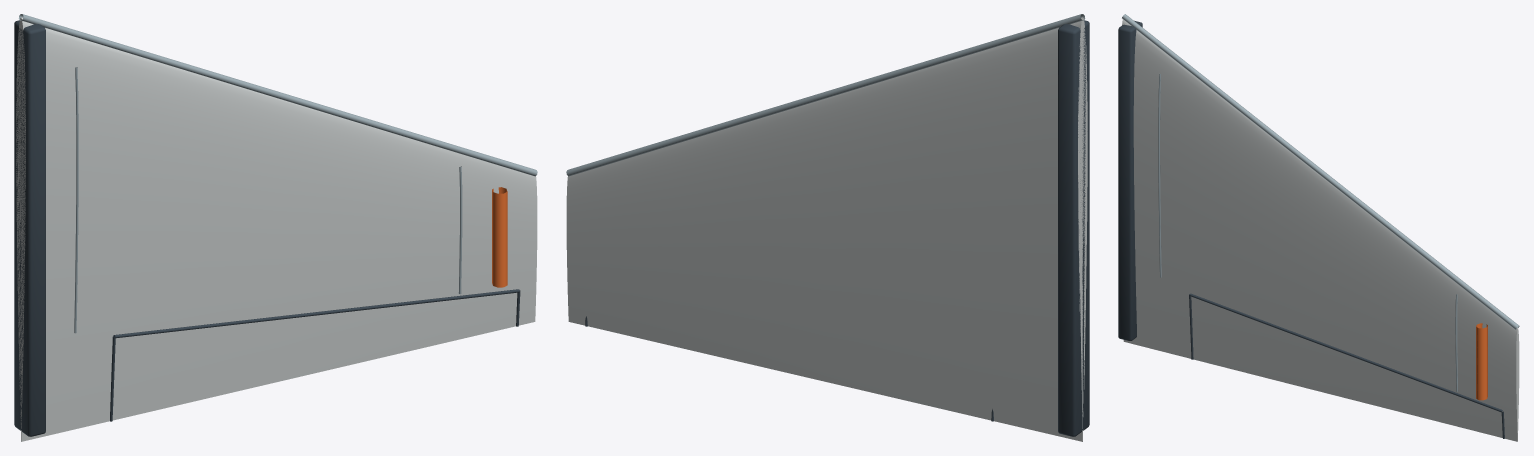
The model's file is wing.glb.
3 renders of one model, left to right at view 1: azimuth 30°, elevation 25°; view 2: azimuth 150°, elevation 25°; view 3: azimuth 330°, elevation 25°, orthographic. The views are drawn at different scales.
Parts seen in each view (by area): view 1: Tapered airfoil; view 2: Tapered airfoil; view 3: Tapered airfoil.
Part boxes in pixels (x1,y1,x2,y2): Tapered airfoil: (14,14,537,441); Tapered airfoil: (566,14,1089,441); Tapered airfoil: (1118,14,1519,441).
Size of the model in its own units: 2 by 1.6 by 0.12.
